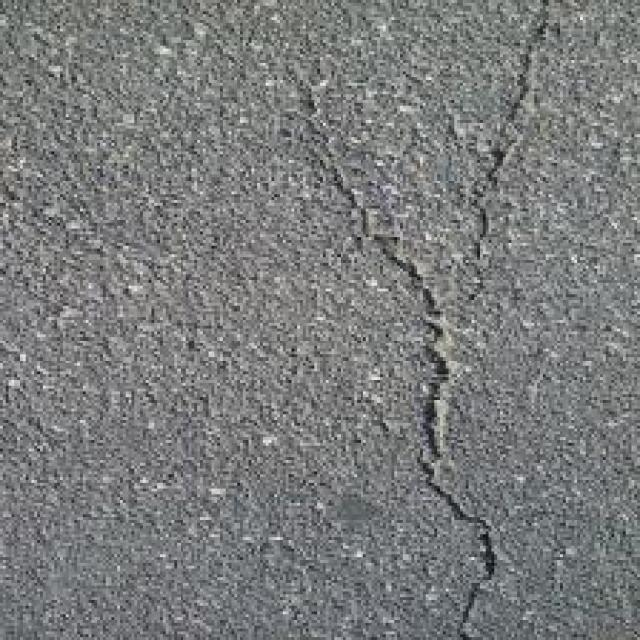SurfaceCrack: (274, 88, 522, 640)
